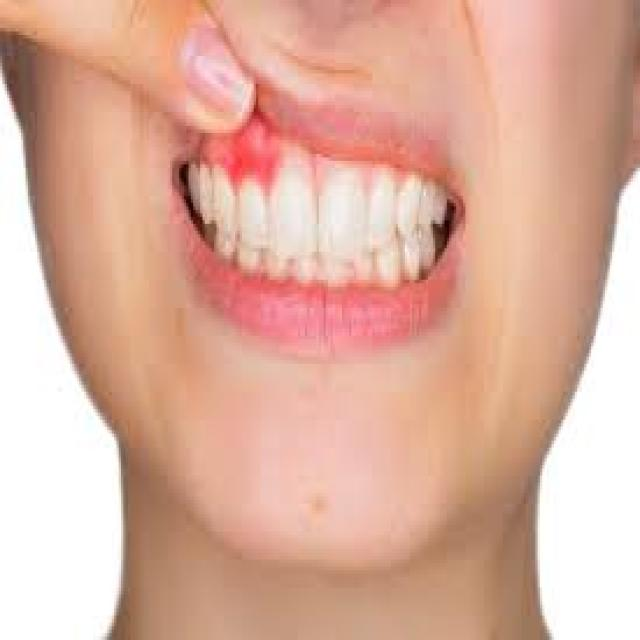tooth: (324, 175, 366, 262), (270, 178, 314, 248), (368, 171, 396, 252), (242, 185, 265, 245), (398, 171, 421, 231), (219, 175, 235, 231), (428, 185, 447, 224), (200, 171, 214, 217), (188, 161, 198, 213)
